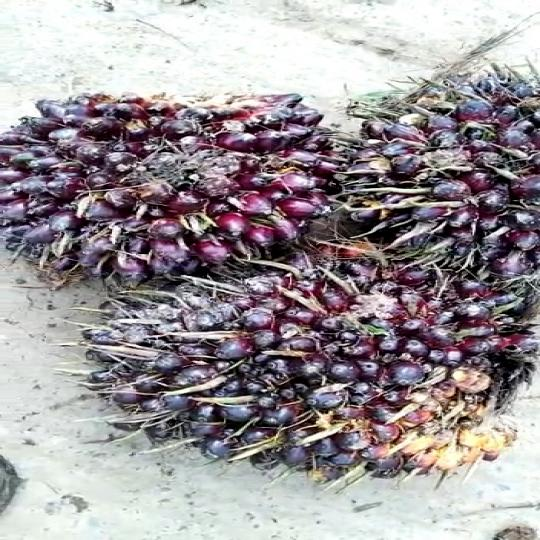kurang masak: (92, 258, 528, 488), (0, 89, 357, 270), (330, 67, 540, 289)
